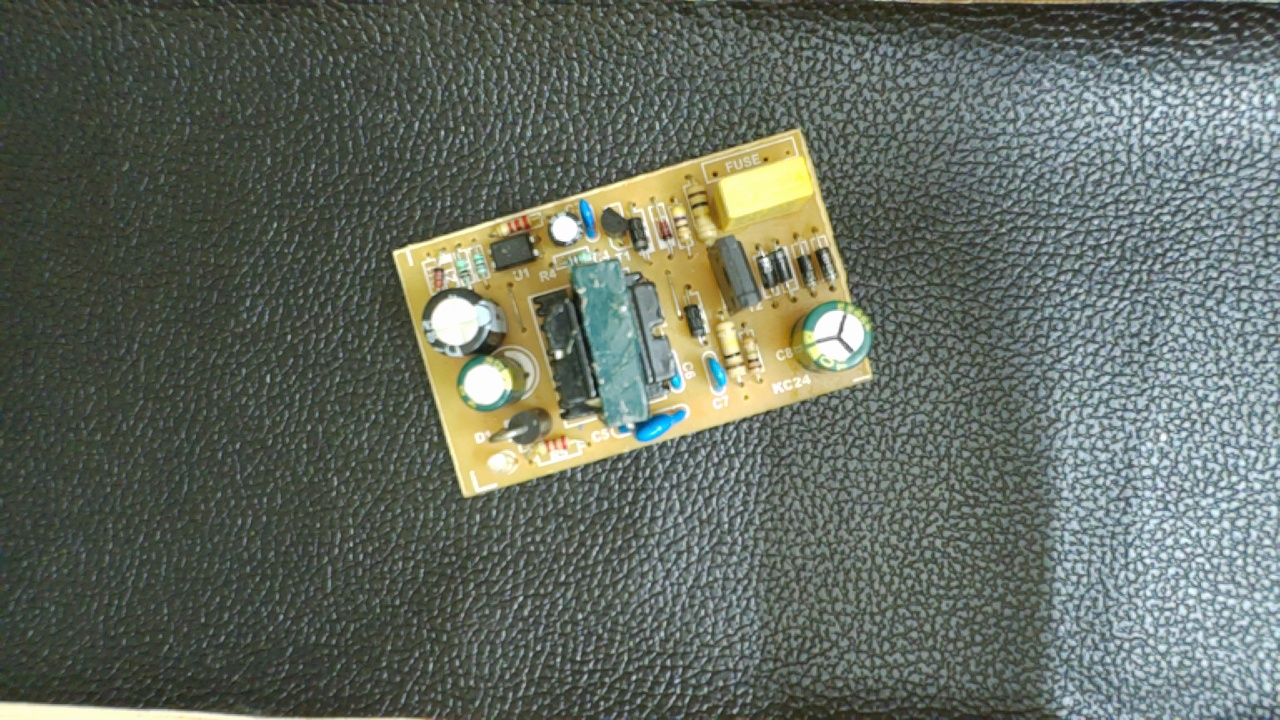hv_capacitor: (783, 300, 876, 374)
mov: (612, 404, 692, 446)
optocoupler: (479, 231, 543, 272)
